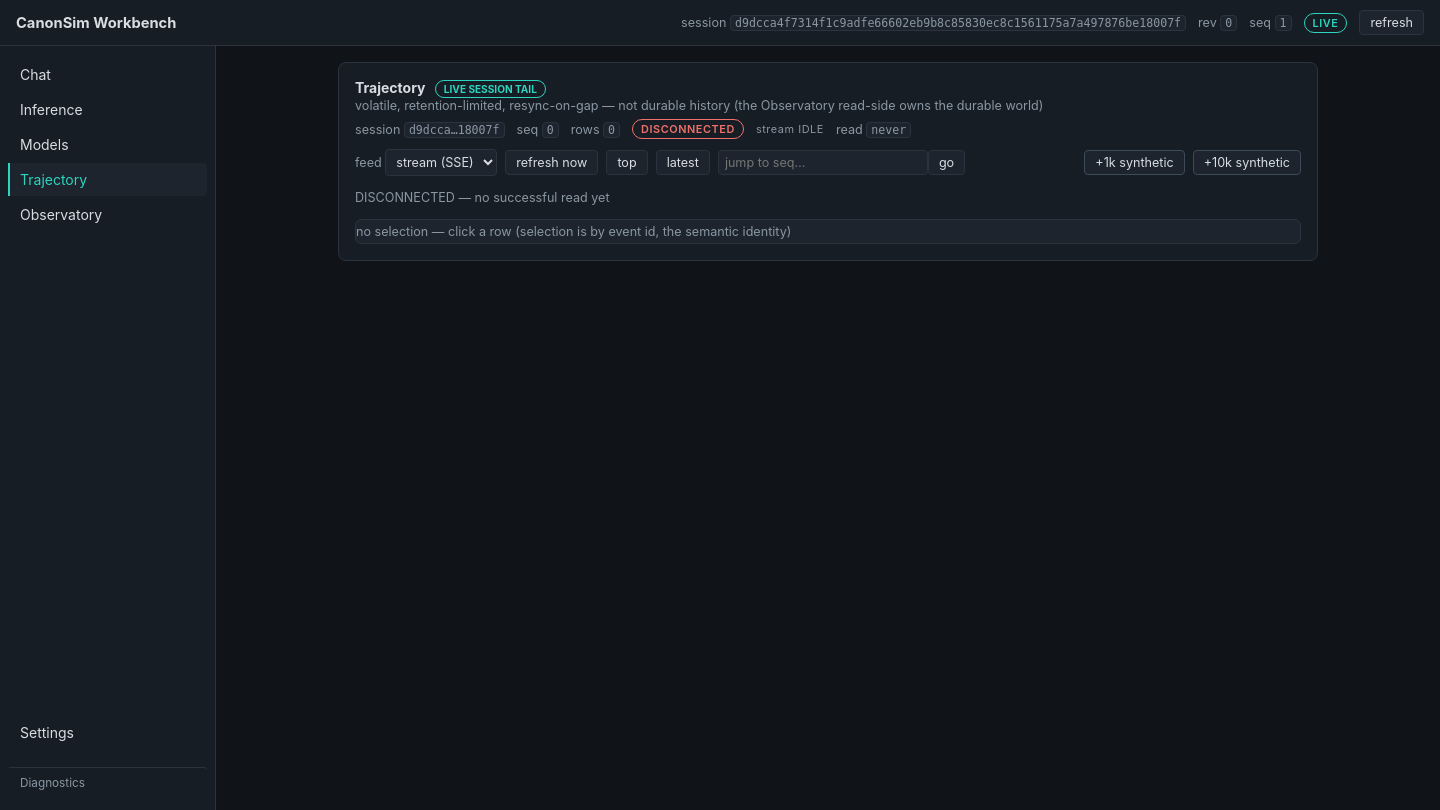
Test: the composition root's registry split (the IA acceptance floor) › the Chat product route mounts its surface (the conversation world's three context READs)
Expected: the text with test id "session-id" reads "d9dcca4f7314f1c9adfe66602eb9b8c85830ec8c1561175a7a497876be18007f", [735,16,1181,30]
What coordinates should you click on to do the following:
click the button "Chat"
I would click on:
 (108, 74)
Its box is [8,58,207,91].
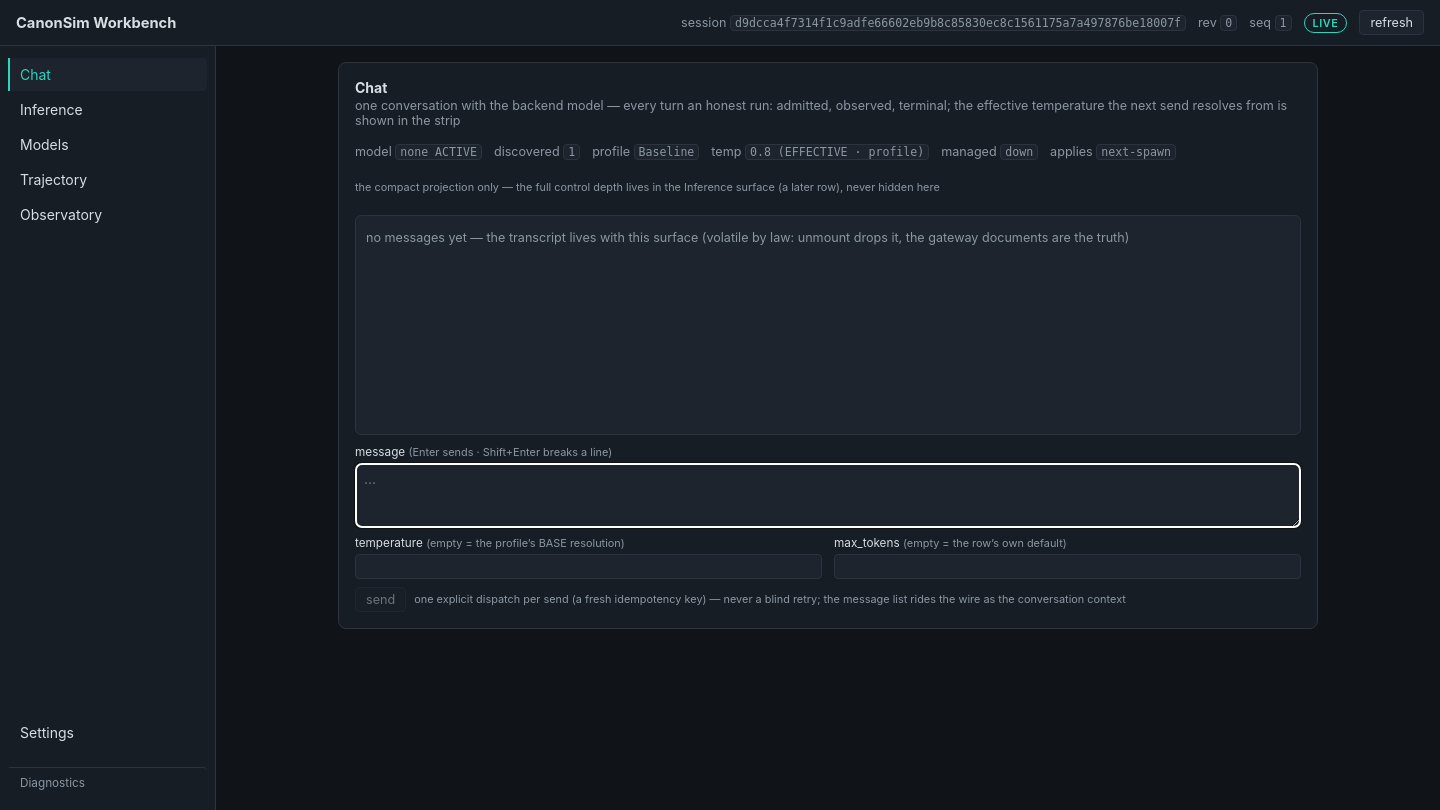
Expected: the number of elements with test id "active-workspace" is 1, [338,62,1318,629]
Expected: the element named "Chat — the conversation world" is shown, [338,62,1318,629]
